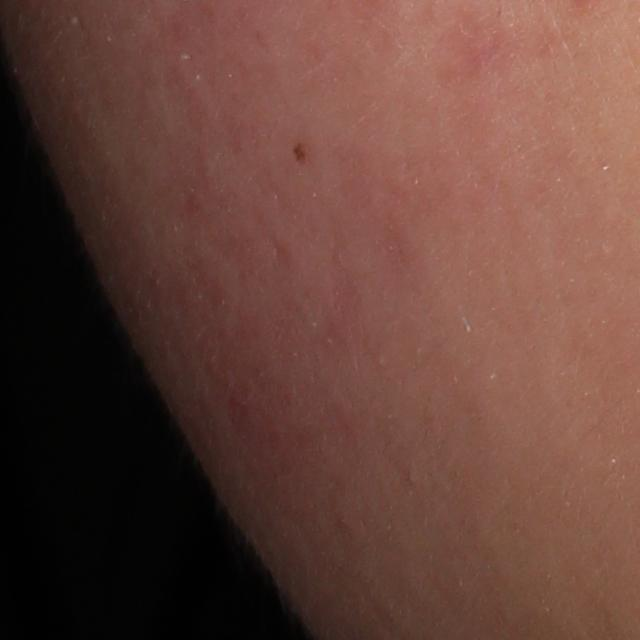nevus: (291, 136, 309, 169)
